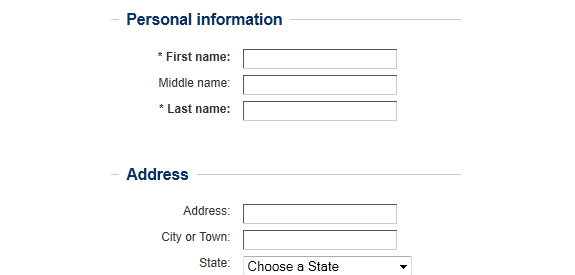_form_: (75, 1, 491, 275)
field: (241, 74, 398, 96), (242, 100, 399, 122), (242, 229, 399, 251), (242, 203, 400, 224), (242, 48, 399, 69)
field_with_label: (156, 72, 402, 97), (162, 228, 401, 253), (167, 99, 401, 124), (165, 47, 402, 71), (182, 202, 402, 225), (200, 254, 419, 275)
select: (243, 255, 416, 275)
